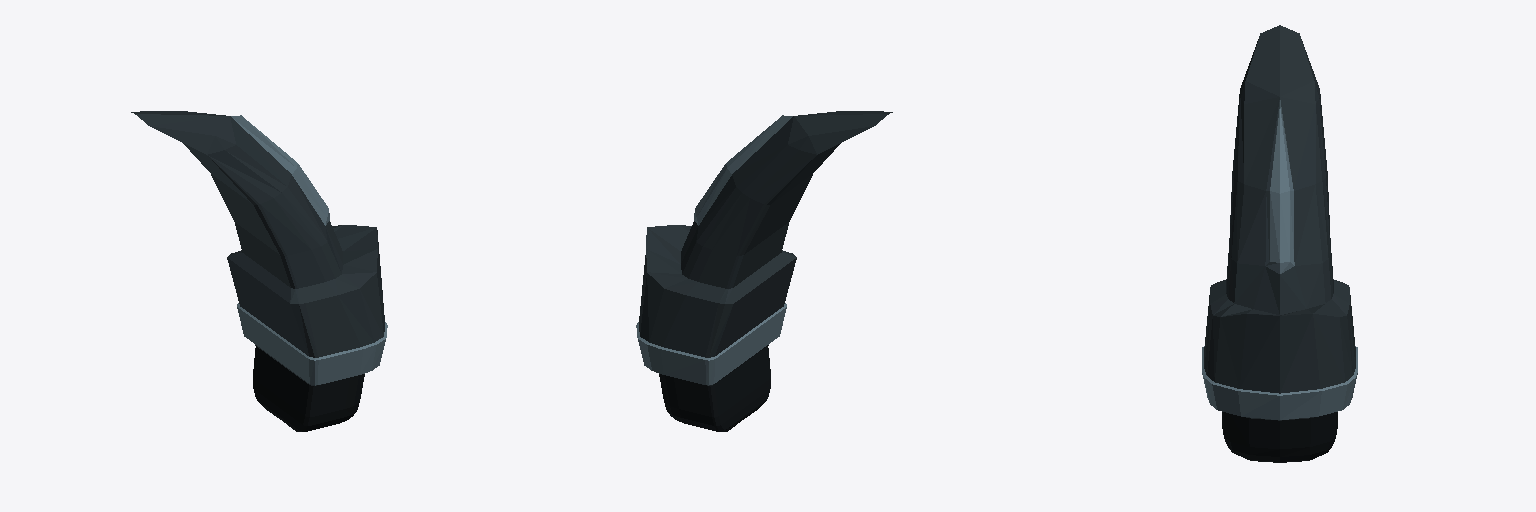
File: character_knightArmLeft.obj
3 views of the same model, side by side, from view 1: azimuth 30°, elevation 25°; view 2: azimuth 150°, elevation 25°; view 3: azimuth 270°, elevation 25° (orthographic).
Parts seen in each view (by area): view 1: character_knightArmLeft_Cube.005; view 2: character_knightArmLeft_Cube.005; view 3: character_knightArmLeft_Cube.005.
Boxes of the visible parts, x1,y1,x2,y2 form: character_knightArmLeft_Cube.005: [131, 111, 387, 431]; character_knightArmLeft_Cube.005: [636, 111, 892, 431]; character_knightArmLeft_Cube.005: [1202, 25, 1357, 462].
Bounding box in the file's own units: 0.4338 × 0.5868 × 0.2431.